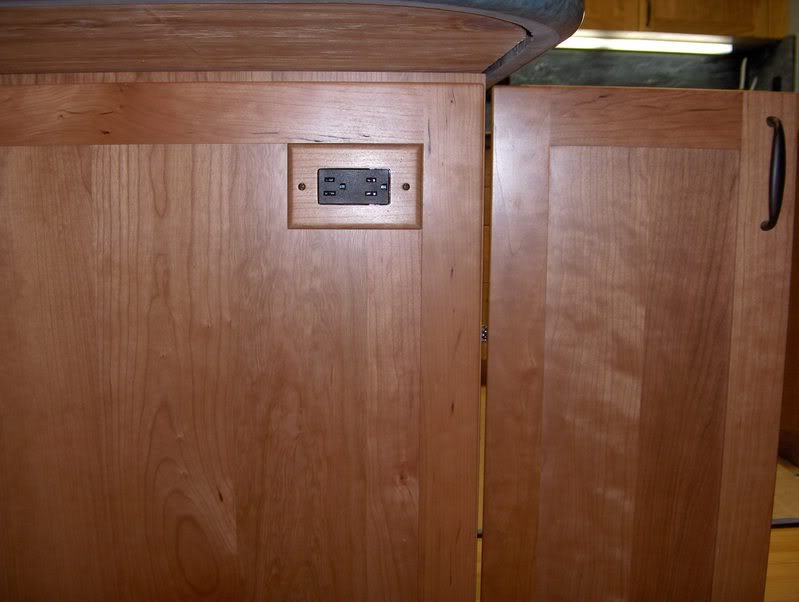outlet: (320, 175, 348, 199), (362, 174, 389, 198)
